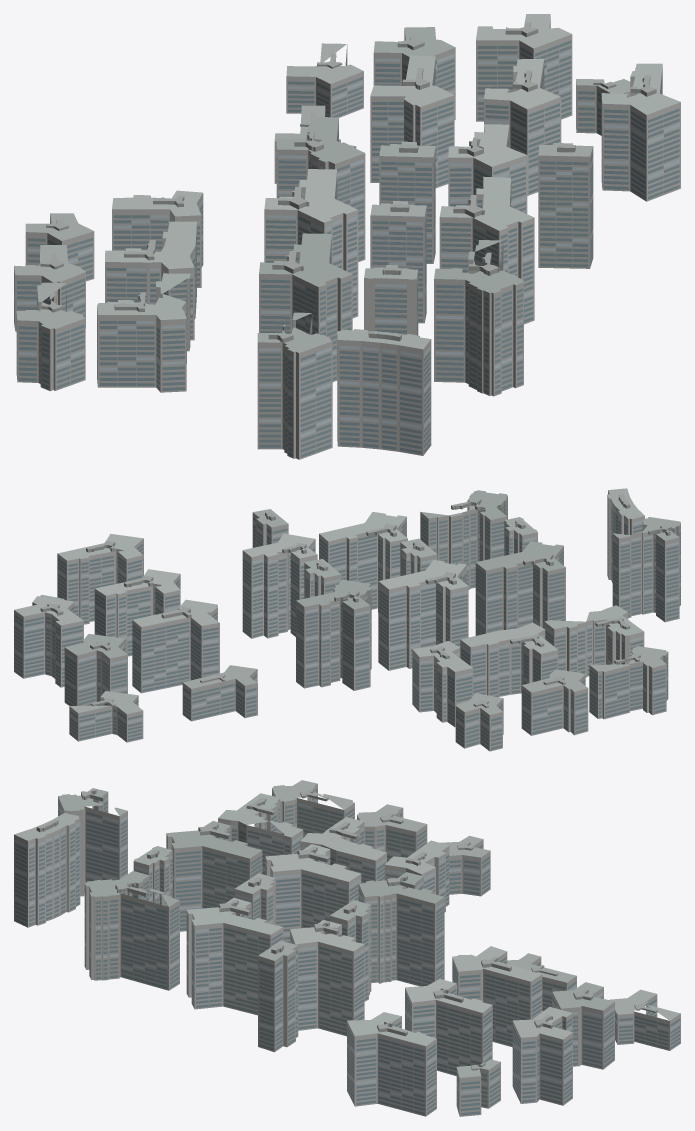
File: apt-a13071302.glb
3 renders of one model, top to bottom at view 1: azimuth 30°, elevation 25°; view 2: azimuth 150°, elevation 25°; view 3: azimuth 270°, elevation 25°, orthographic. The views are drawn at different scales.
Visible parts, largest first — view 1: apt-a13071302; view 2: apt-a13071302; view 3: apt-a13071302.
Boxes of the visible parts, x1,y1,x2,y2 form: apt-a13071302: (14,14,680,459); apt-a13071302: (14,488,680,751); apt-a13071302: (14,780,680,1116).
Bounding box in the file's own units: 408 × 63 × 401.
